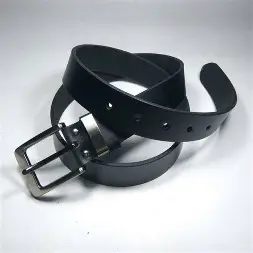sabuk_ada: (30, 42, 229, 196)
